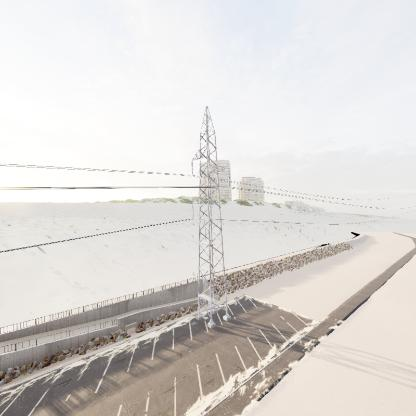tower: (180, 99, 242, 333)
